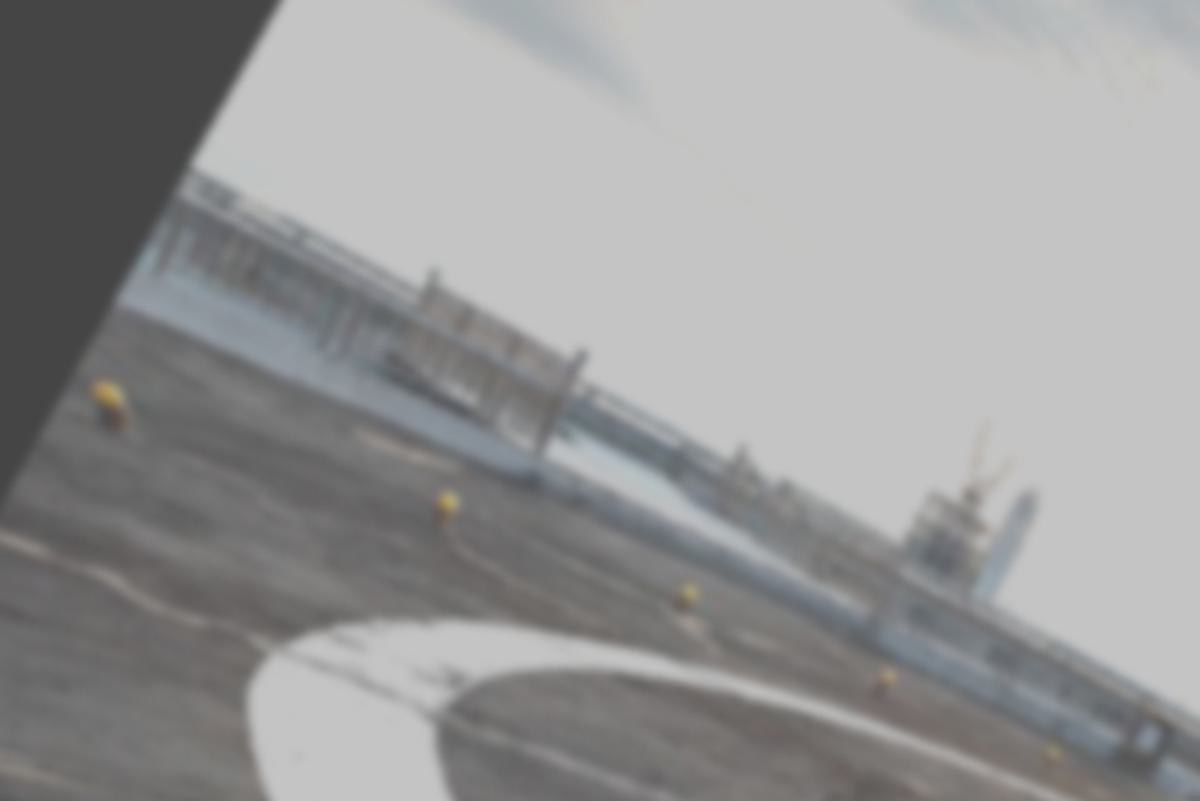Apron: (229, 602, 1194, 795)
